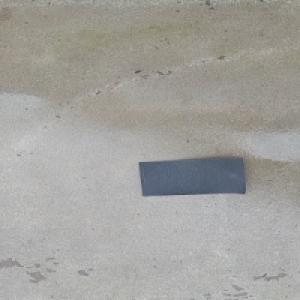PaintChip: (138, 157, 246, 197)
